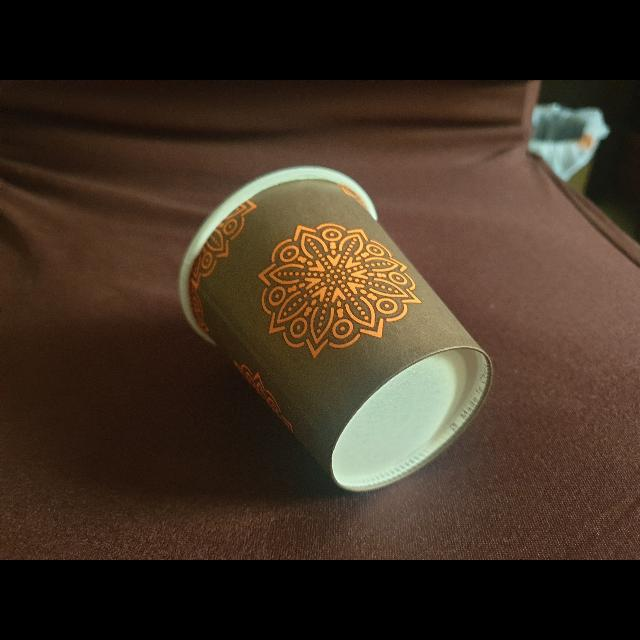trash: (168, 157, 500, 497)
